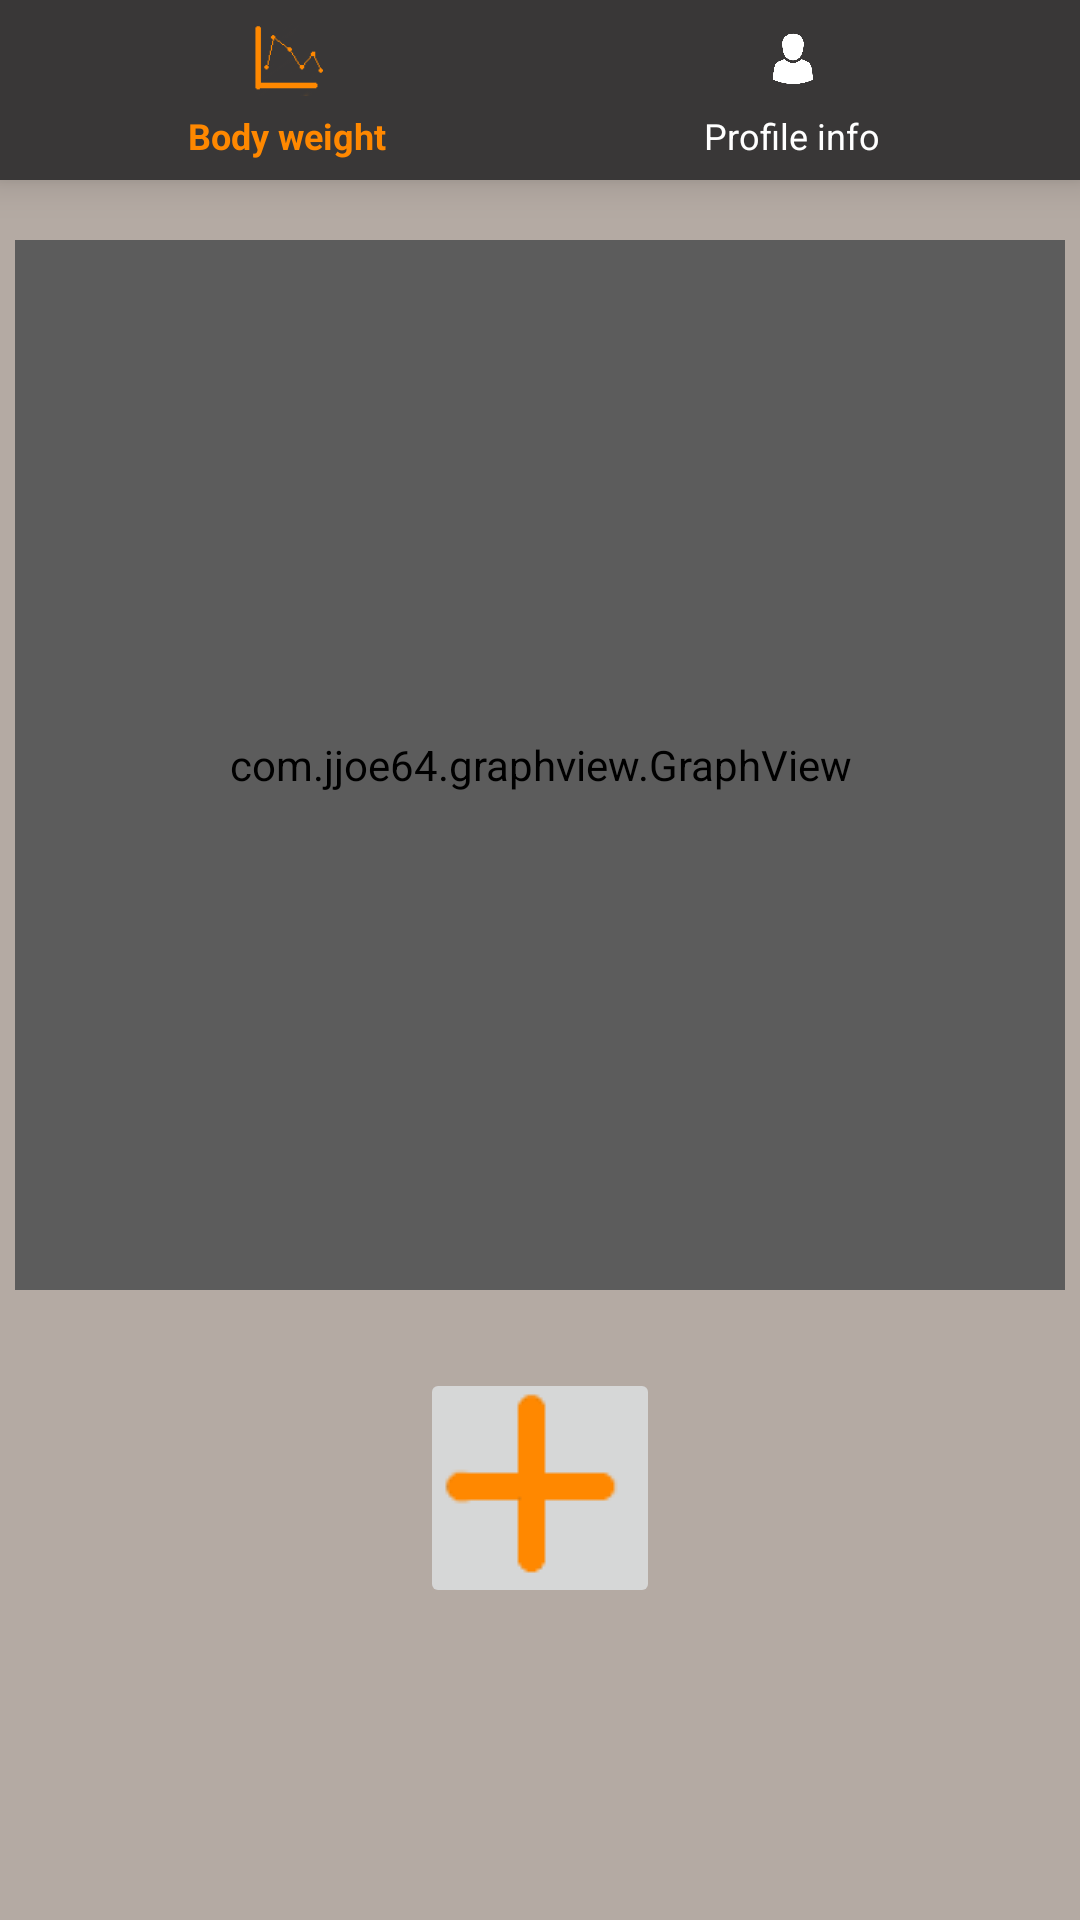

Screen size 1080px x 1920px. Icon name, then its center in pixels as point (x, y):
plus: point (540, 1488)
